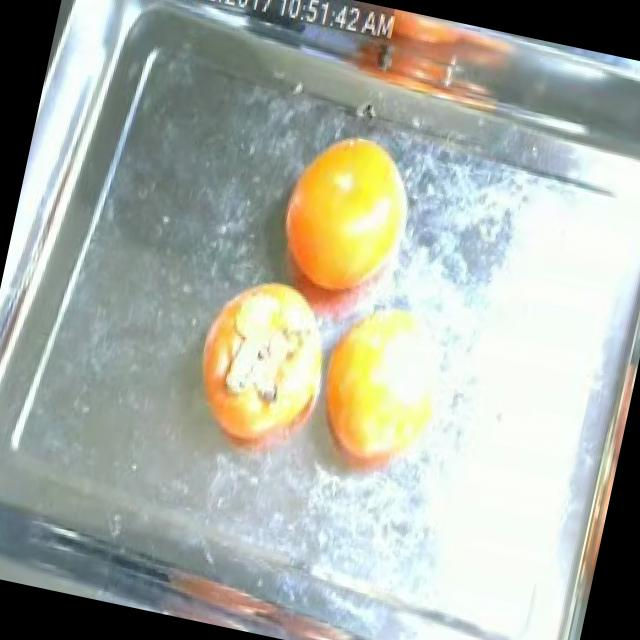Fruit: (252, 104, 441, 326)
